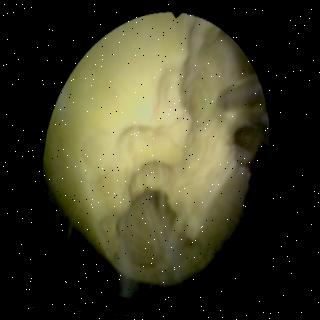stone: (45, 14, 269, 288)
